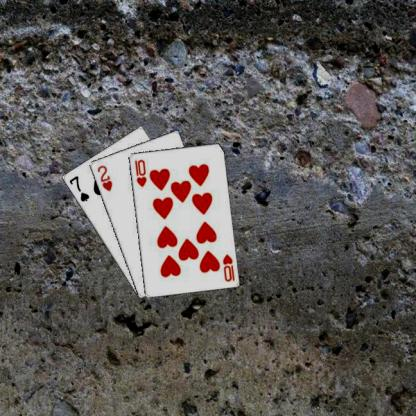10H: (219, 251, 236, 282), (132, 157, 147, 188)
2H: (94, 162, 113, 192)
7S: (66, 173, 91, 203)
